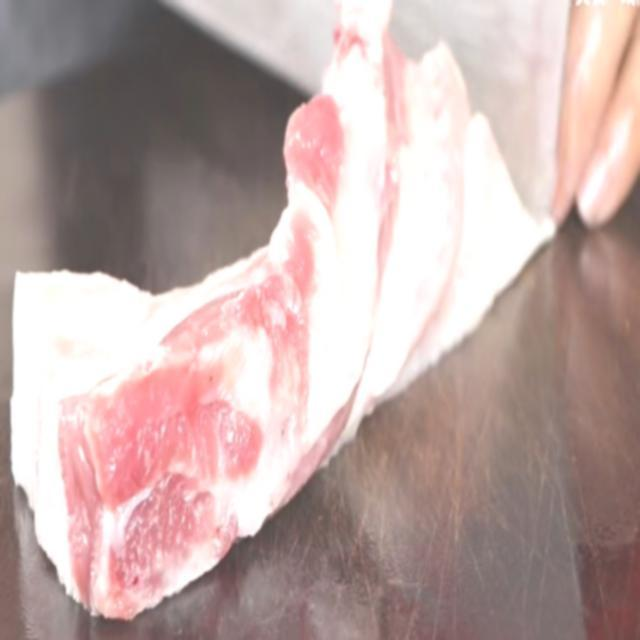pork: (9, 12, 528, 623)
